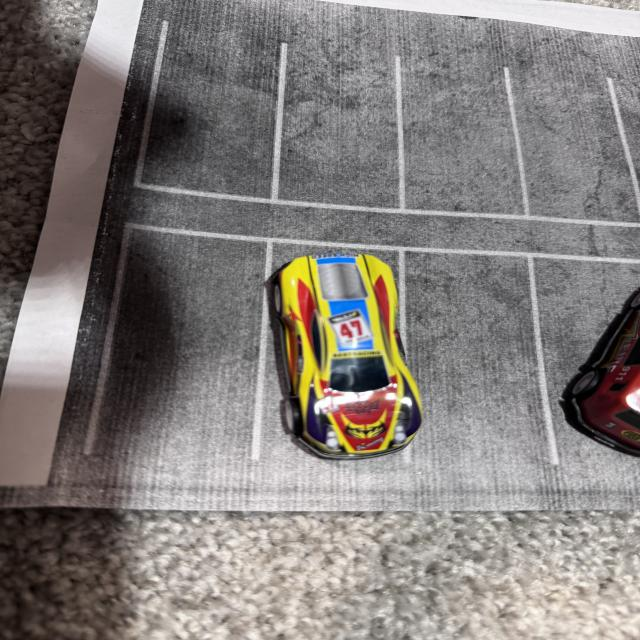car: (223, 222, 439, 467)
